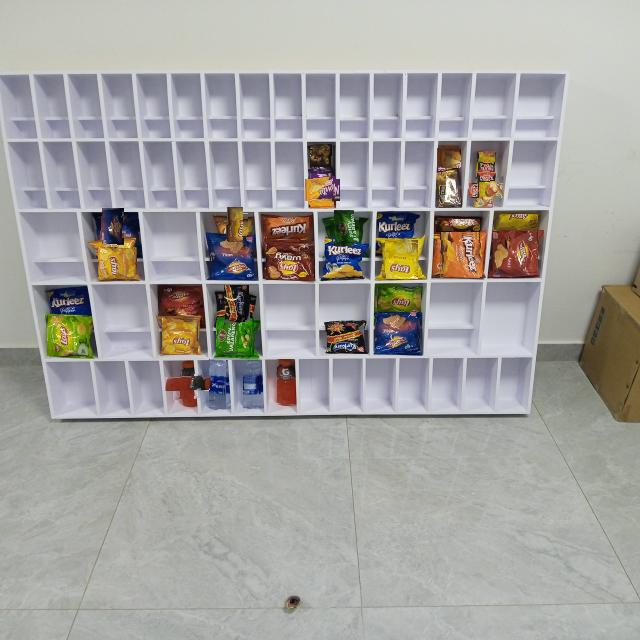Plastic: (209, 233, 254, 280), (493, 231, 538, 276), (438, 232, 482, 277), (266, 240, 314, 280), (375, 312, 420, 354), (48, 315, 89, 357), (161, 316, 198, 354), (384, 239, 418, 279), (217, 319, 254, 355), (158, 286, 202, 316), (326, 243, 362, 278), (100, 243, 134, 278), (376, 286, 421, 312), (325, 322, 364, 352), (220, 288, 252, 320), (264, 217, 309, 239), (173, 369, 203, 400), (243, 361, 262, 409), (50, 290, 88, 314), (98, 212, 128, 241), (308, 175, 337, 205), (209, 360, 226, 410), (379, 214, 416, 236), (330, 214, 359, 242), (277, 360, 294, 406), (494, 214, 538, 230), (222, 211, 248, 237), (436, 217, 480, 232), (439, 172, 458, 206), (473, 178, 499, 202), (310, 144, 333, 168), (438, 146, 460, 168), (478, 151, 495, 172)
